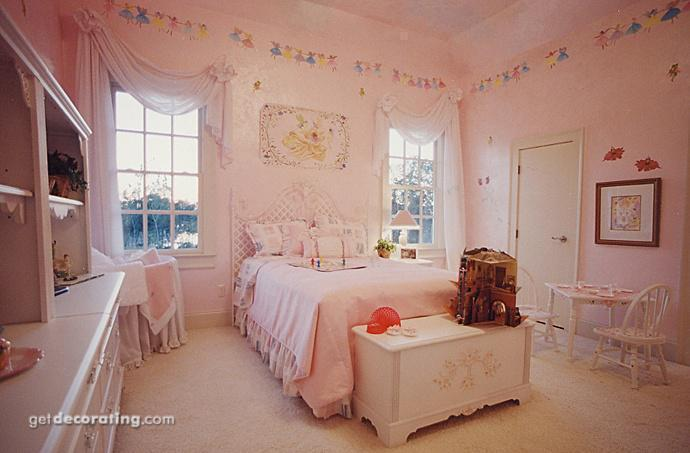Cama: (234, 198, 462, 406)
Puerta: (513, 145, 574, 332)
Ventana: (107, 70, 210, 257), (383, 114, 449, 250)
